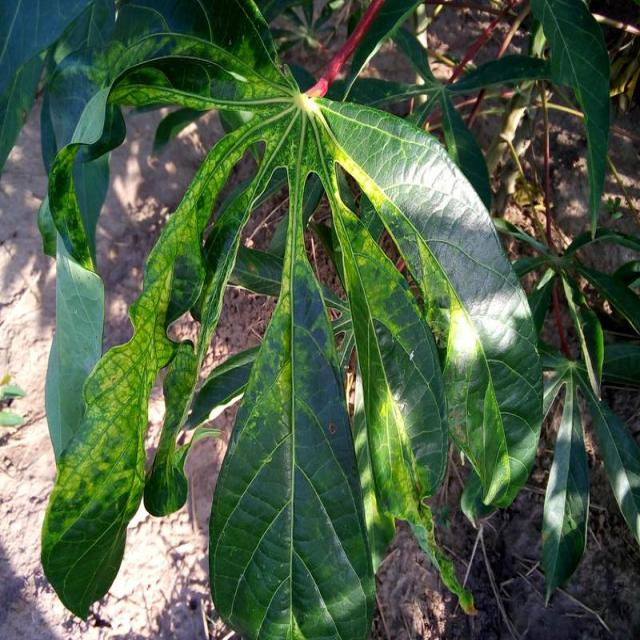cassava leaf: (34, 1, 546, 637), (307, 93, 545, 519)
